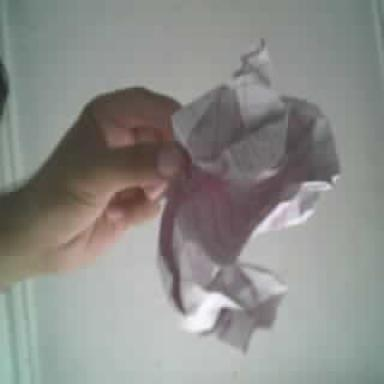paper: (158, 42, 337, 349)
